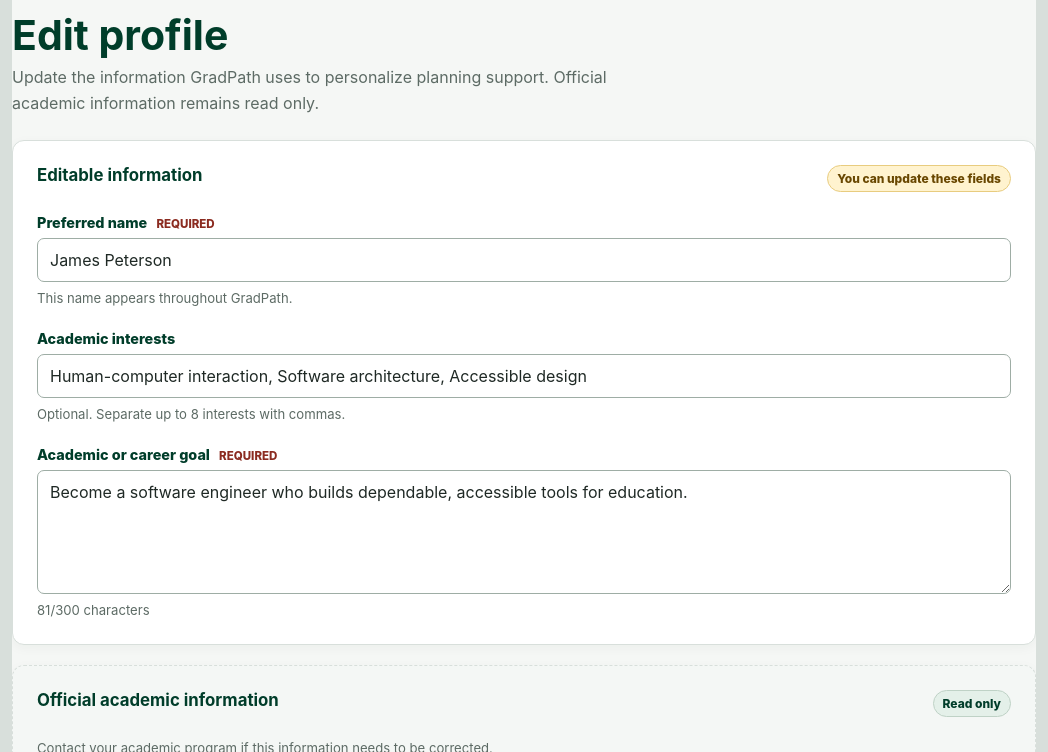
it: ProfileEditForm › shows and focuses academic-interest limit feedback
This screenshot has width=1048, height=752.
Replace the text in the field labelled "Academic interests" with "One, Two, Three, Four, Five, Six, Seven, Eight, Nine" at {"x": 524, "y": 376}, box [37,354,1011,398]
(page scrolled)
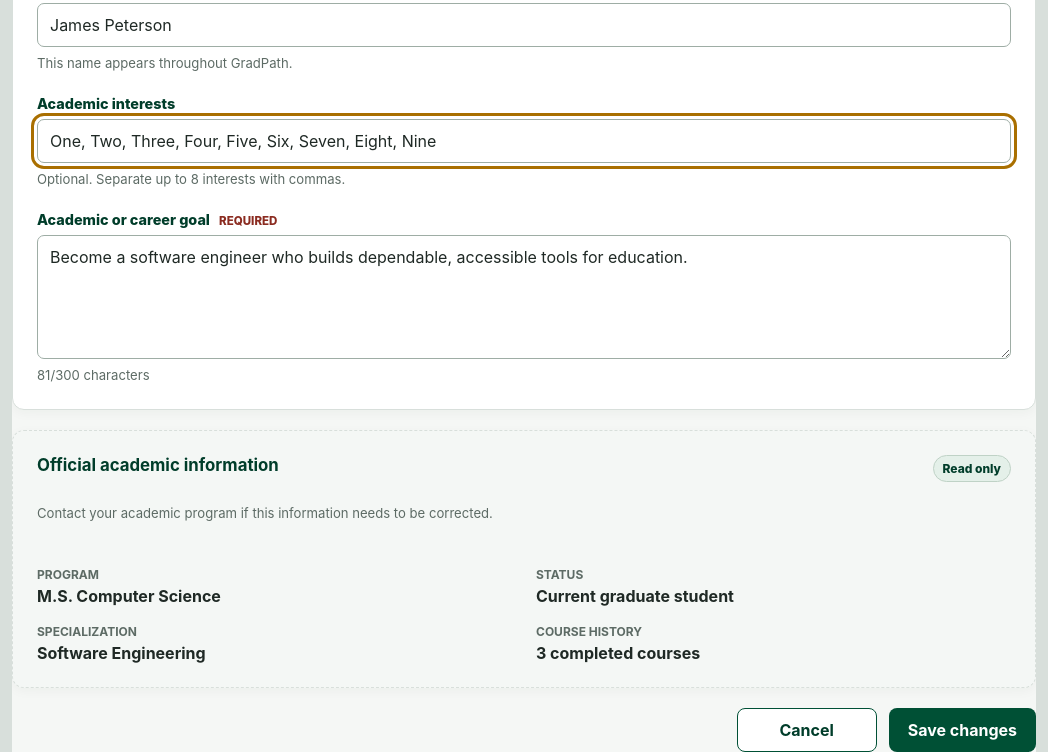
Click the button "Save changes".
click(962, 730)  # box [889,708,1036,751]
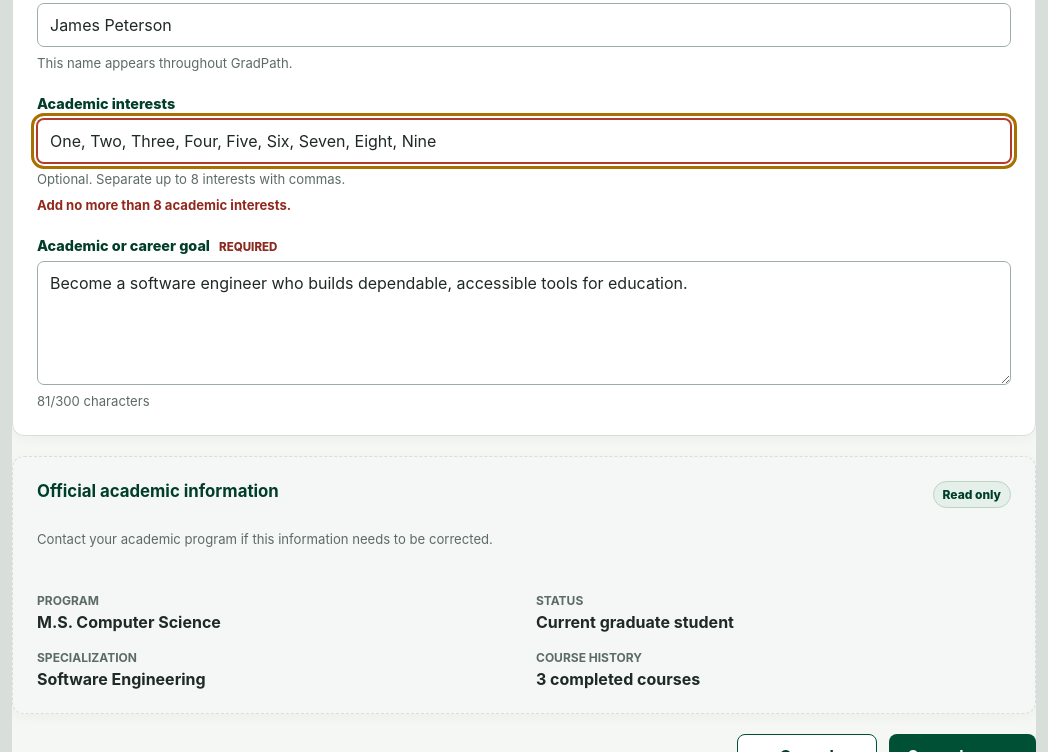
Expected: the text "Add no more than 8 academic interests." is shown, [37,197,291,213]
